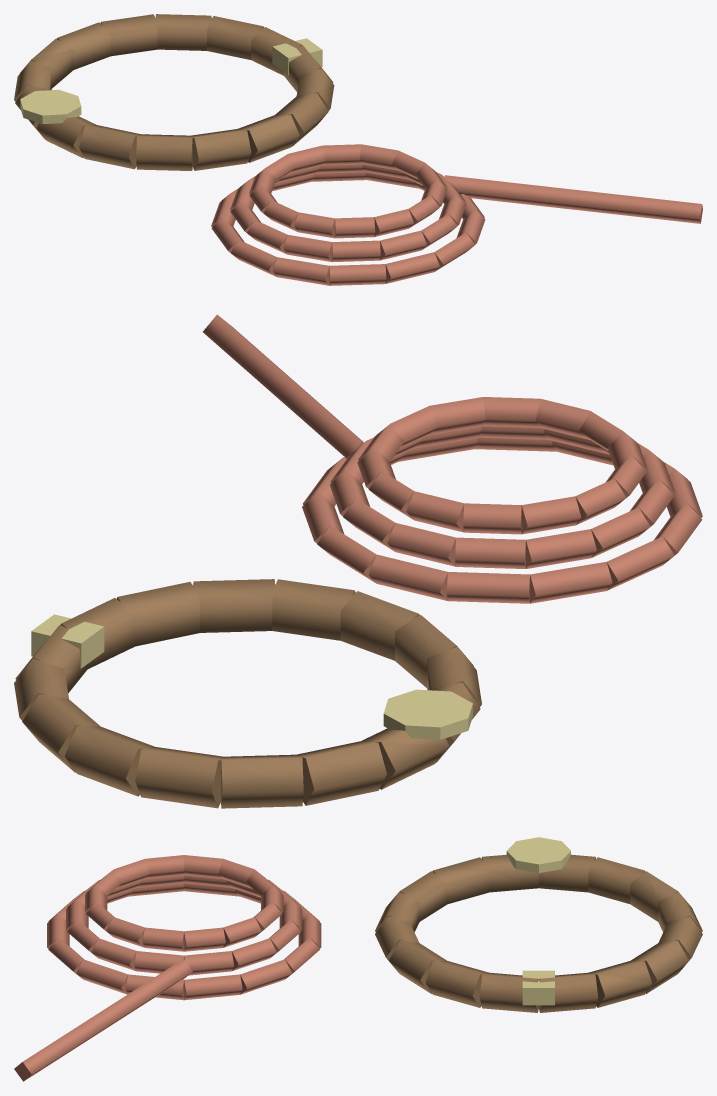
File: camp_dog_lead_a.glb
3 renders of one model, top to bottom at view 1: azimuth 30°, elevation 25°; view 2: azimuth 150°, elevation 25°; view 3: azimuth 270°, elevation 25°, orthographic. The views are drawn at different scales.
Visible parts, largest first — view 1: body; view 2: body; view 3: body.
Boxes of the visible parts, left/top/right/bottom form: body: left=14, top=14, right=702, bottom=285; body: left=14, top=314, right=702, bottom=808; body: left=14, top=837, right=702, bottom=1081.
Bounding box in the file's own units: 0.3143 × 0.0384 × 0.4273.
